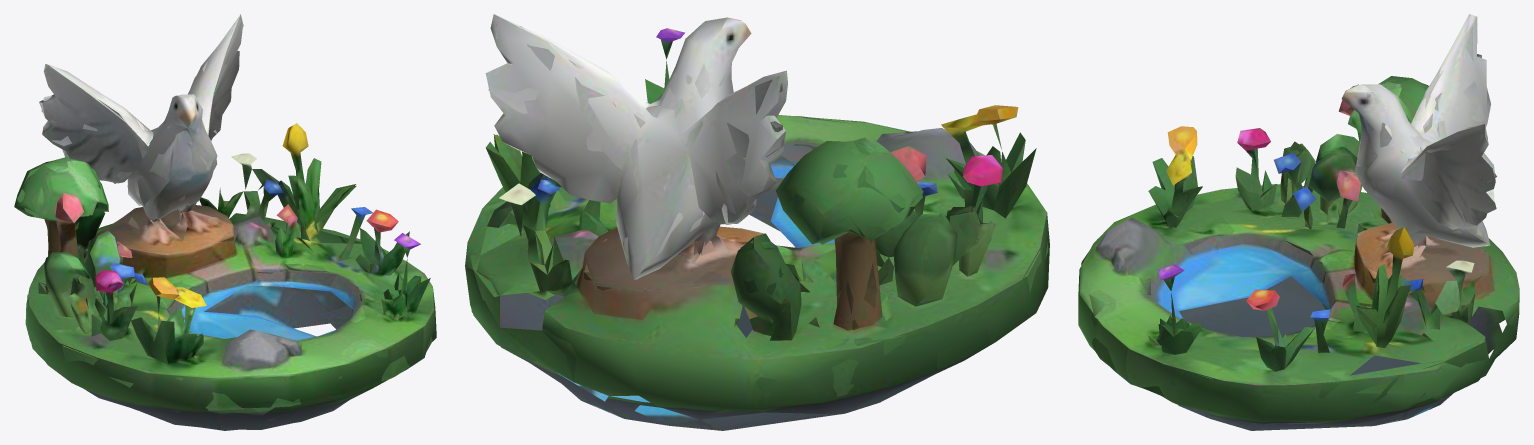
Rendered from peaceGarden.glb.
3 renders of one model, left to right at view 1: azimuth 30°, elevation 25°; view 2: azimuth 150°, elevation 25°; view 3: azimuth 270°, elevation 25°, orthographic. The views are drawn at different scales.
Visible parts, largest first — view 1: level; view 2: level; view 3: level.
Boxes of the visible parts, x1=… form: level: x1=14, y1=14, x2=436, y2=430; level: x1=465, y1=14, x2=1049, y2=430; level: x1=1078, y1=14, x2=1519, y2=430.
Bounding box in the file's own units: 0.9042 × 0.6832 × 0.8874.
1 material, 1 textured.
